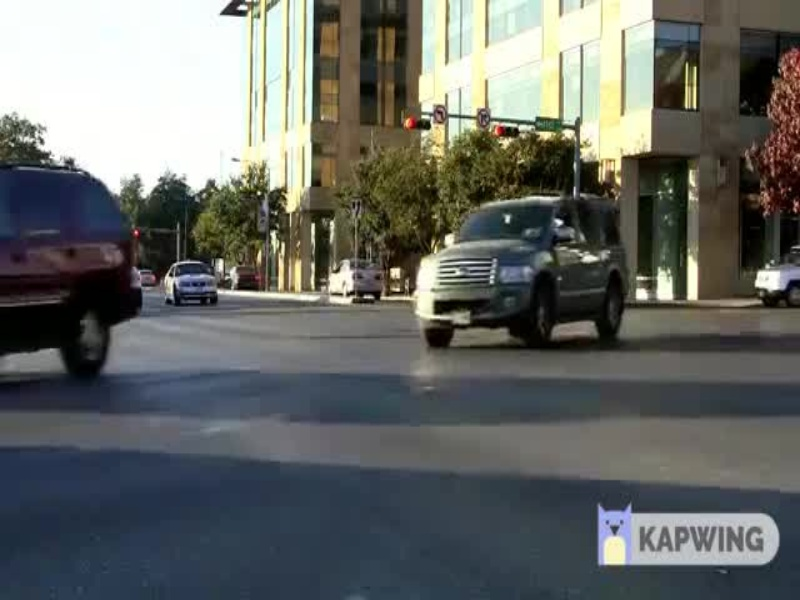car: (160, 260, 227, 311), (317, 255, 390, 301)
suv: (416, 182, 641, 356), (1, 165, 145, 378)
